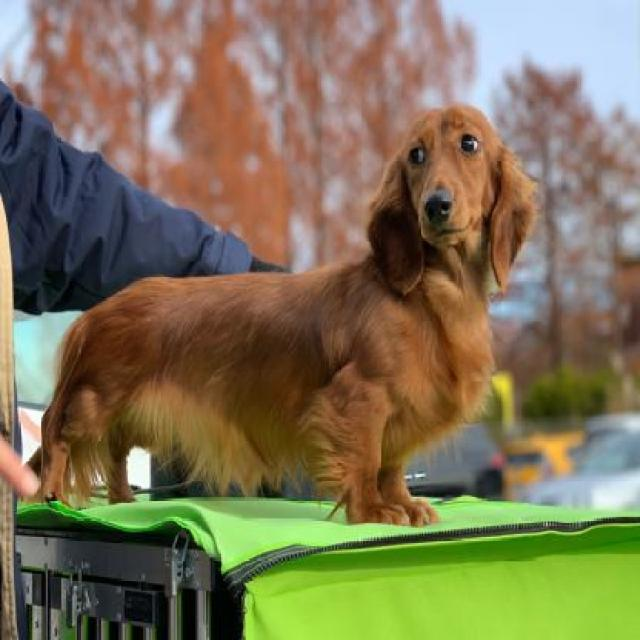Dog: (19, 100, 542, 540)
